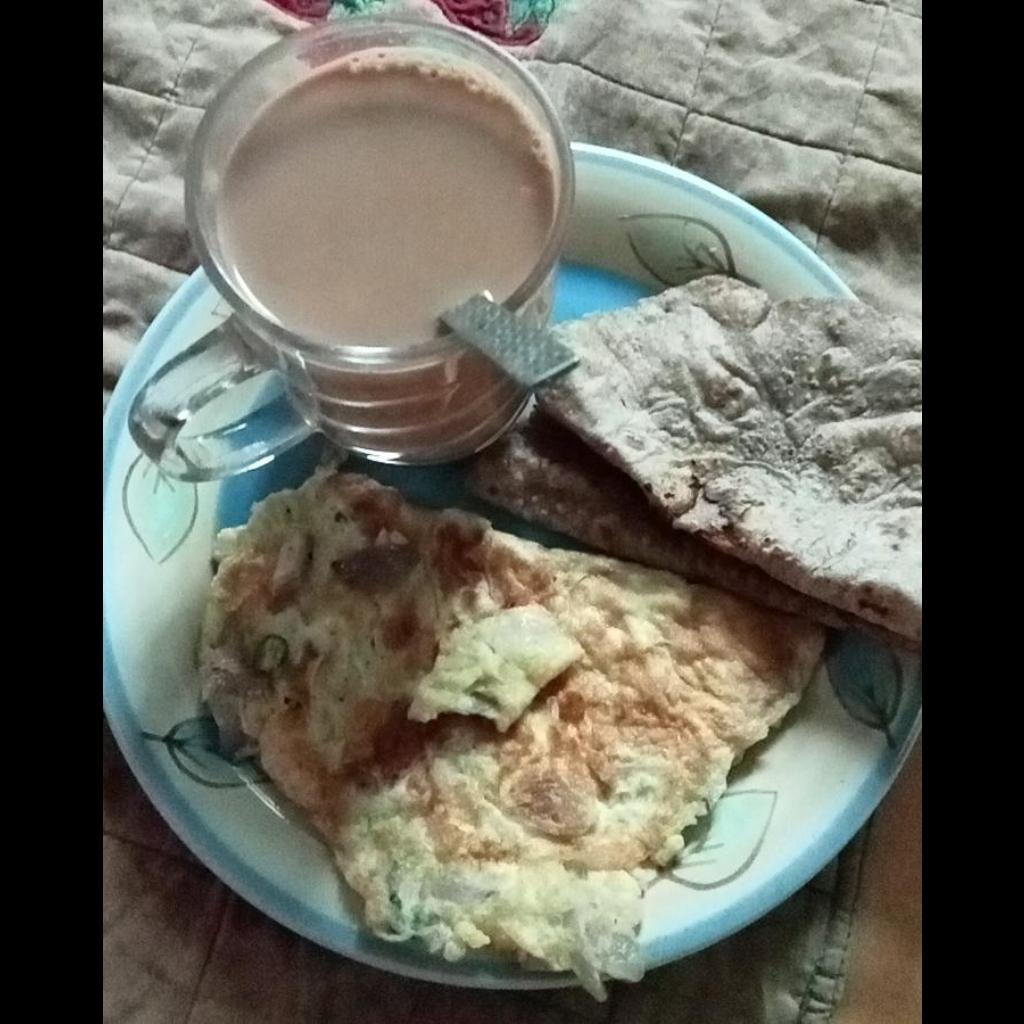cha: (217, 56, 556, 341)
egg-poached: (195, 474, 842, 999)
ruti: (467, 270, 920, 641)
